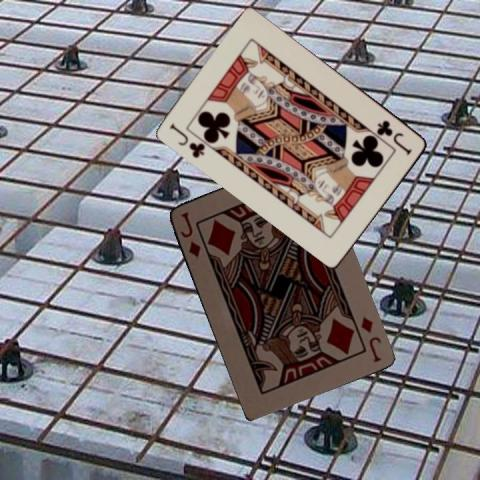Jc: (167, 121, 207, 160), (375, 117, 414, 155)
Jd: (177, 209, 202, 259), (357, 314, 382, 364)
